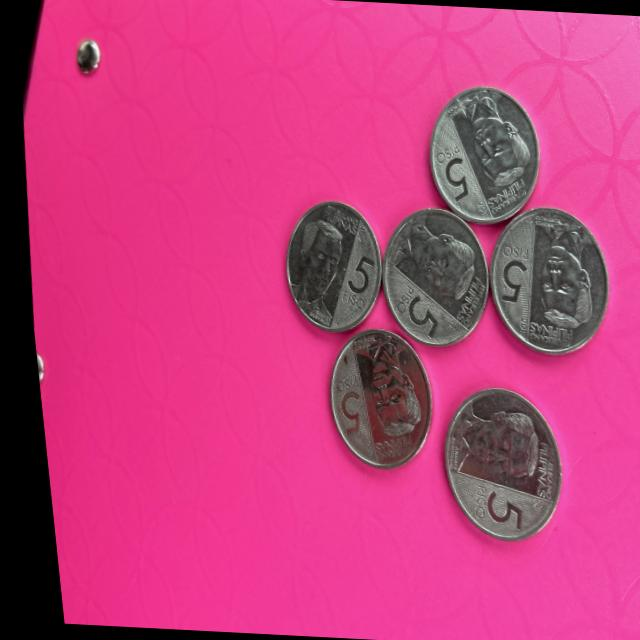5_New_Front: (482, 227, 538, 301), (422, 132, 469, 208), (459, 479, 523, 531), (329, 248, 377, 316), (321, 371, 361, 442), (385, 282, 431, 338)
